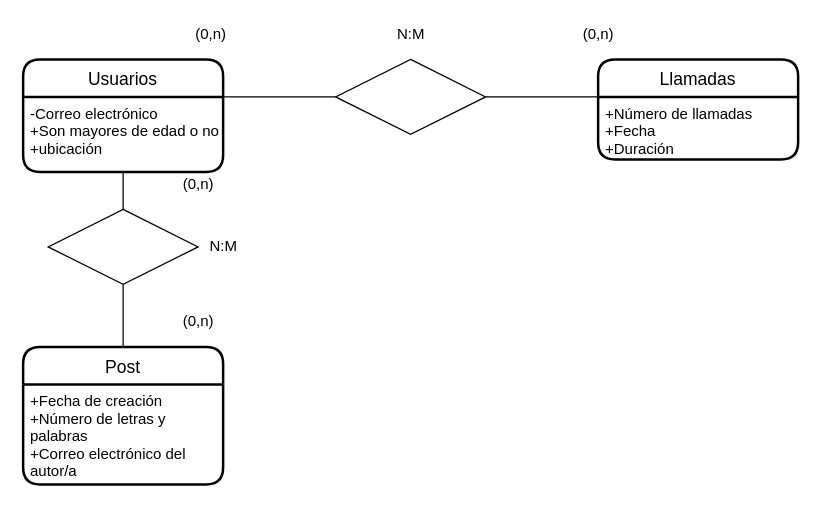
This 820x506 diagram has some shape labels left out. Here are the shapes that lost their labels. From the top down, the centre of each, then its label:
pixel 410 96: realizan
pixel 122 246: Crean
